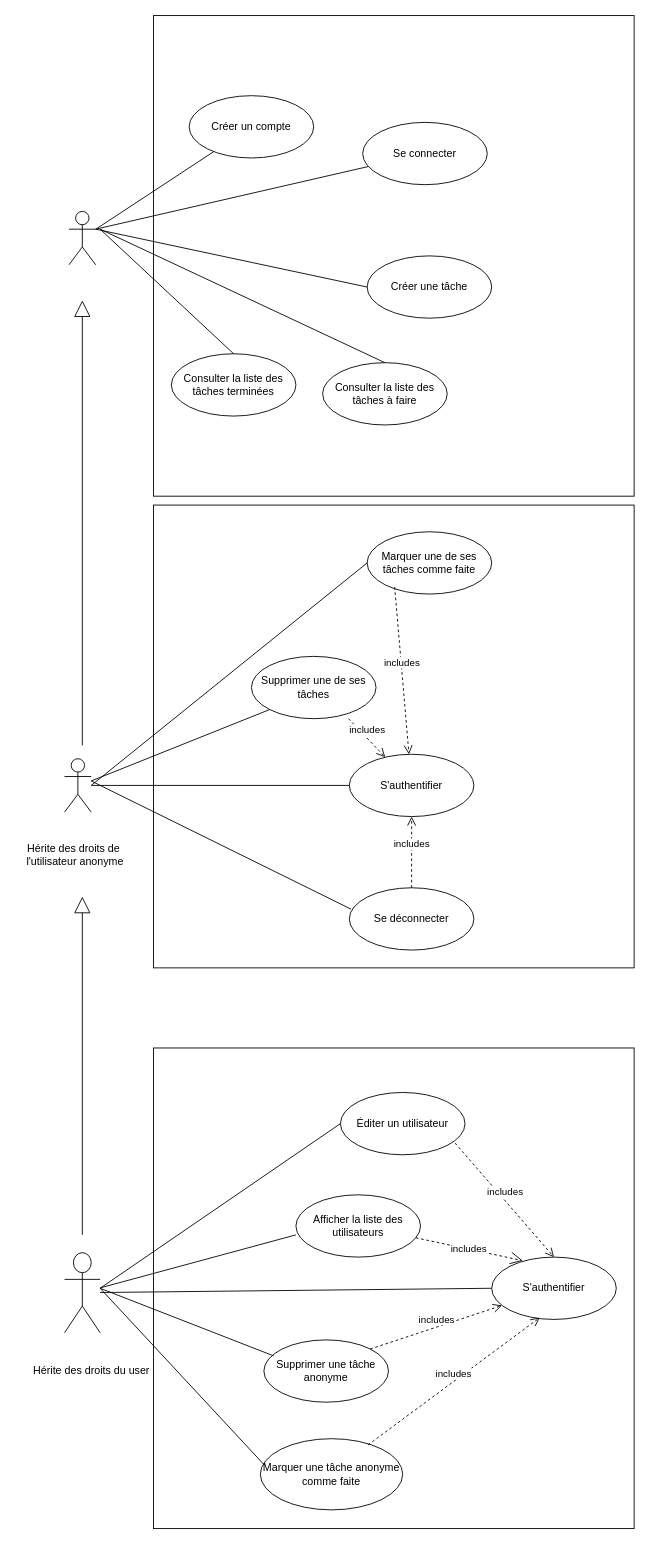
This 650x1544 diagram has some shape labels left out. Here are the shapes that lost their labels. From the top down, the centre of each, then its label:
At pixel 82 237: "Anonyme".
At pixel 77 785: "User".
At pixel 82 1292: "Admin".
